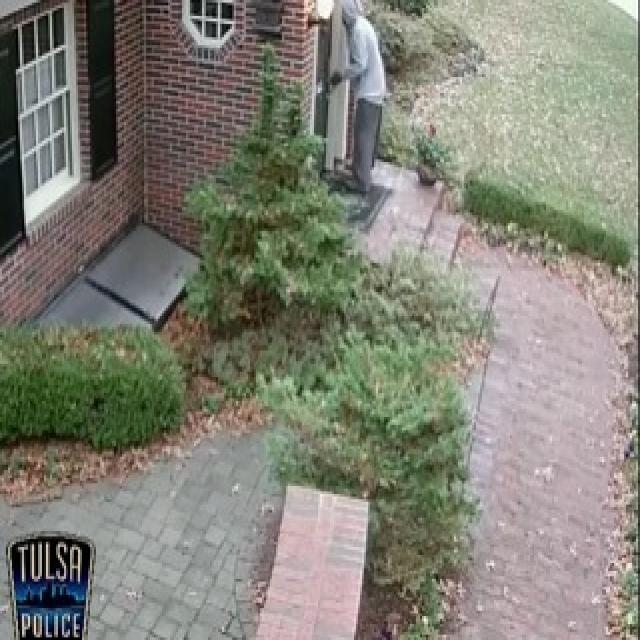burglary: (328, 0, 390, 210)
